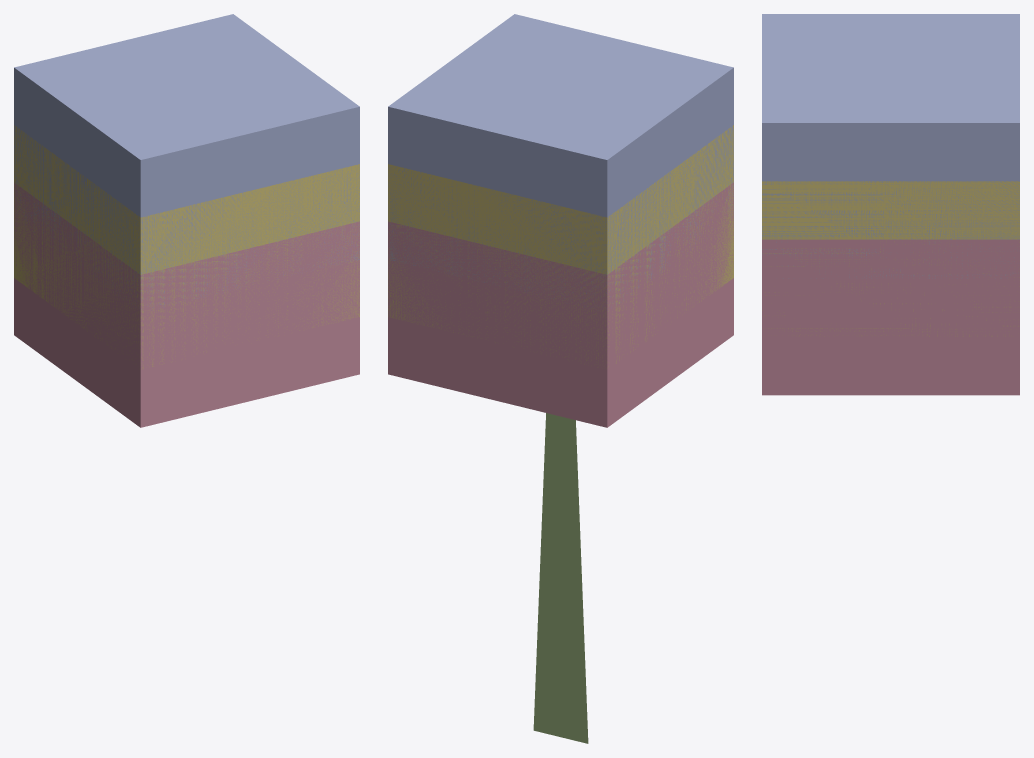
The model's file is flower_v0_near.gltf.
3 views of the same model, side by side, from view 1: azimuth 30°, elevation 25°; view 2: azimuth 150°, elevation 25°; view 3: azimuth 270°, elevation 25° (orthographic).
Visible parts, largest first — view 1: cover; view 2: cover; view 3: cover.
Boxes of the visible parts, x1,y1,x2,y2 form: cover: (14, 14, 359, 427); cover: (388, 14, 733, 743); cover: (762, 14, 1019, 395).
Bounding box in the file's own units: 0.12 × 0.34 × 0.12.
